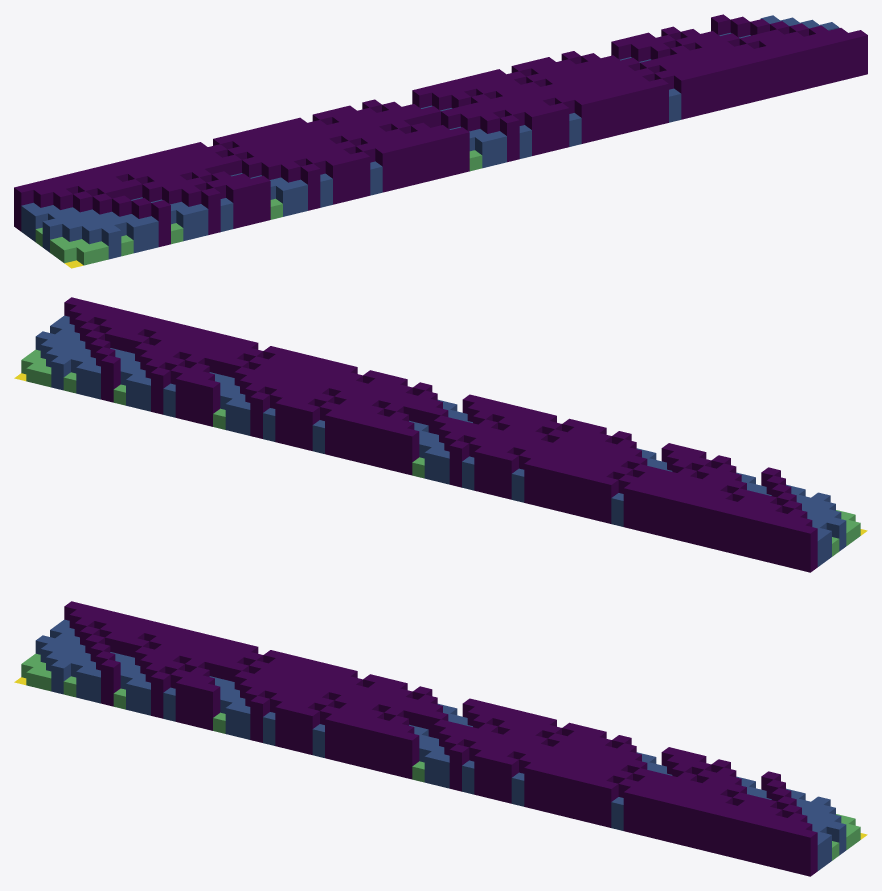
The picture shows the model from 3 angles, top to bottom: view 1: azimuth 30°, elevation 25°; view 2: azimuth 150°, elevation 25°; view 3: azimuth 330°, elevation 25°; orthographic projection.
Visible parts, largest first — view 1: Object(42,8)[length_3], Object(22,8)[length_3], Object(38,8)[length_3], Object(20,8)[length_3], Object(26,8)[length_3], Object(36,8)[length_3], Object(50,8)[length_3], Object(8,8)[length_3], Object(12,8)[length_3], Object(14,8)[length_3], Object(15,8)[length_3], Object(24,8)[length_3] (+36 smaller); view 2: Object(1,1)[length_3], Object(33,1)[length_3], Object(49,1)[length_3], Object(57,1)[length_3], Object(29,1)[length_3], Object(53,1)[length_3], Object(17,1)[length_3], Object(25,1)[length_3], Object(41,1)[length_3], Object(45,1)[length_3], Object(13,1)[length_3], Object(4,1)[length_3] (+30 smaller); view 3: Object(64,8)[length_3], Object(32,8)[length_3], Object(16,8)[length_3], Object(8,8)[length_3], Object(36,8)[length_3], Object(12,8)[length_3], Object(20,8)[length_3], Object(24,8)[length_3], Object(40,8)[length_3], Object(48,8)[length_3], Object(52,8)[length_3], Object(14,8)[length_3] (+30 smaller).
Boxes of the visible parts, bbox=[...] form: Object(42,8)[length_3]: bbox=[574, 97, 594, 143]; Object(22,8)[length_3]: bbox=[325, 157, 345, 204]; Object(38,8)[length_3]: bbox=[524, 109, 544, 155]; Object(20,8)[length_3]: bbox=[300, 163, 320, 210]; Object(26,8)[length_3]: bbox=[375, 145, 394, 192]; Object(36,8)[length_3]: bbox=[500, 115, 519, 162]; Object(50,8)[length_3]: bbox=[674, 72, 693, 119]; Object(8,8)[length_3]: bbox=[151, 200, 170, 246]; Object(12,8)[length_3]: bbox=[201, 188, 220, 234]; Object(14,8)[length_3]: bbox=[226, 182, 245, 228]; Object(15,8)[length_3]: bbox=[239, 179, 258, 225]; Object(24,8)[length_3]: bbox=[351, 151, 370, 198]; Object(1,1)[length_3]: bbox=[798, 525, 817, 572]; Object(33,1)[length_3]: bbox=[399, 428, 419, 475]; Object(49,1)[length_3]: bbox=[200, 379, 220, 426]; Object(57,1)[length_3]: bbox=[101, 355, 120, 402]; Object(29,1)[length_3]: bbox=[449, 440, 469, 487]; Object(53,1)[length_3]: bbox=[151, 367, 170, 414]; Object(17,1)[length_3]: bbox=[599, 477, 618, 523]; Object(25,1)[length_3]: bbox=[499, 452, 518, 499]; Object(41,1)[length_3]: bbox=[300, 404, 319, 450]; Object(45,1)[length_3]: bbox=[250, 392, 269, 438]; Object(13,1)[length_3]: bbox=[648, 489, 667, 535]; Object(4,1)[length_3]: bbox=[760, 516, 779, 563]; Object(64,8)[length_3]: bbox=[798, 829, 817, 876]; Object(32,8)[length_3]: bbox=[399, 732, 419, 779]; Object(16,8)[length_3]: bbox=[200, 683, 220, 730]; Object(8,8)[length_3]: bbox=[101, 659, 120, 706]; Object(36,8)[length_3]: bbox=[449, 744, 469, 791]; Object(12,8)[length_3]: bbox=[151, 671, 170, 718]; Object(20,8)[length_3]: bbox=[250, 696, 269, 742]; Object(24,8)[length_3]: bbox=[300, 708, 319, 754]; Object(40,8)[length_3]: bbox=[499, 756, 518, 803]; Object(48,8)[length_3]: bbox=[599, 781, 618, 827]; Object(52,8)[length_3]: bbox=[648, 793, 667, 839]; Object(14,8)[length_3]: bbox=[175, 677, 194, 724].
Size of the model in its own units: 64 by 3 by 8.
